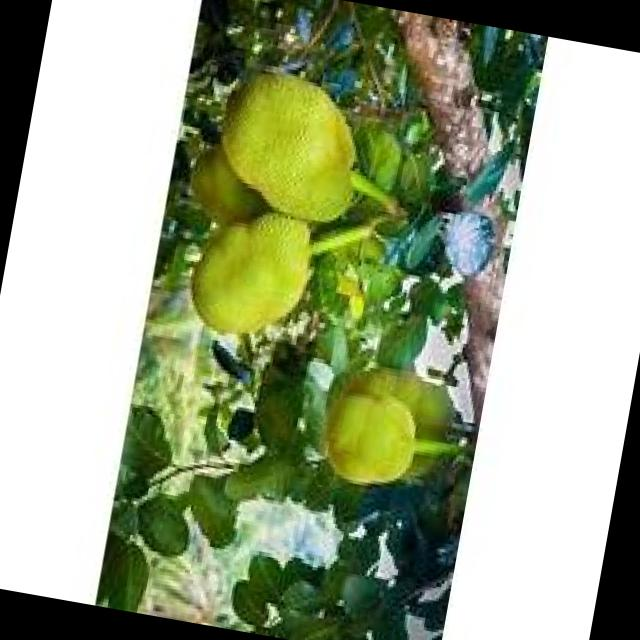Fruit: (163, 139, 347, 362), (192, 49, 388, 242)
